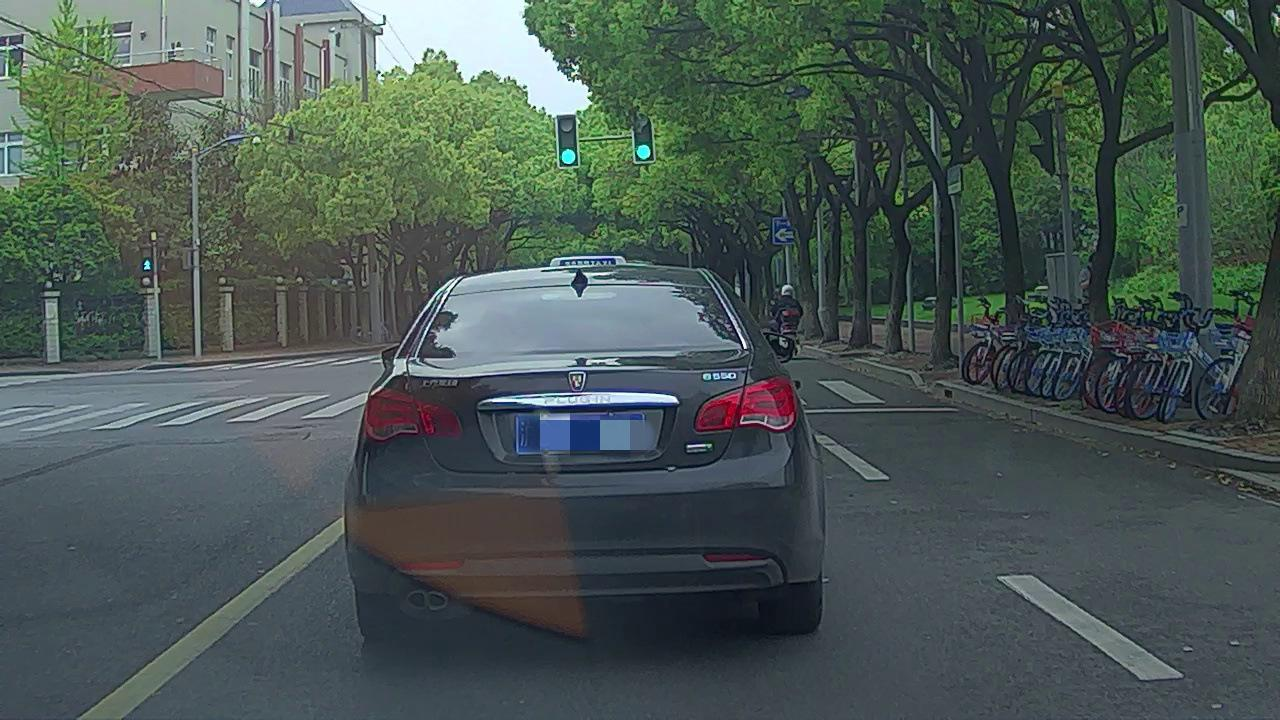traffic_light: (631, 115, 655, 164), (556, 118, 578, 167)
